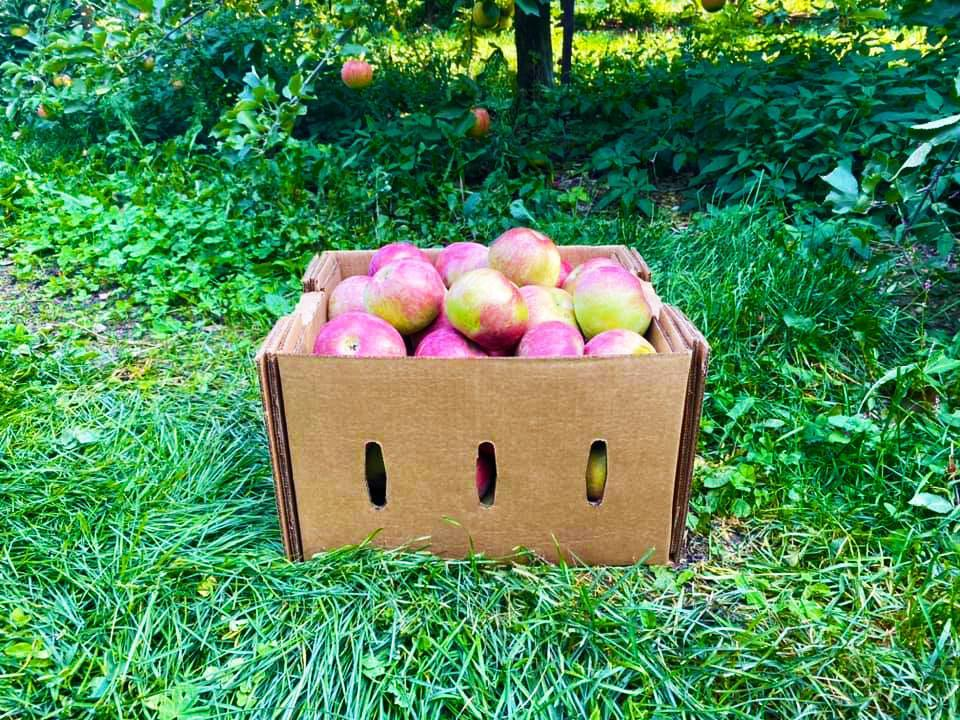apple: (444, 267, 523, 345), (364, 257, 443, 331), (569, 268, 652, 338), (486, 226, 563, 287), (315, 313, 405, 357)
